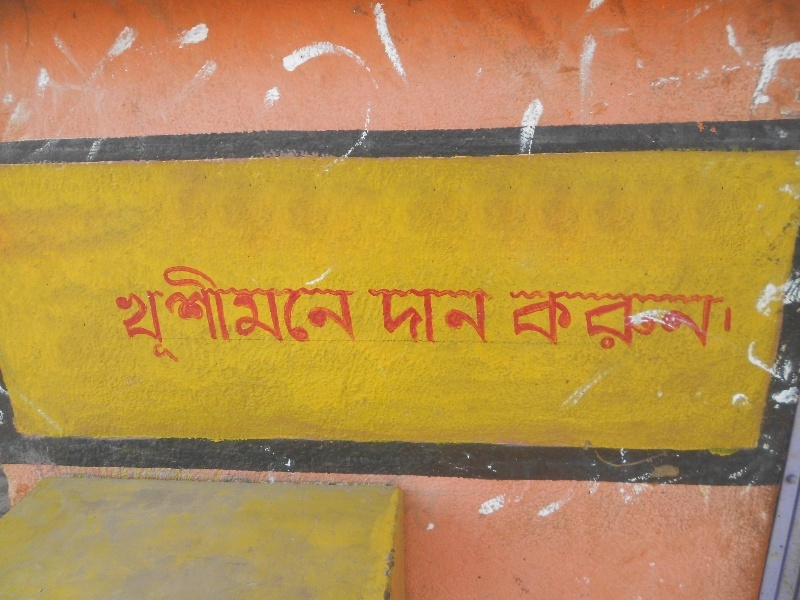text: (113, 263, 128, 365), (129, 263, 144, 365), (145, 263, 160, 365), (161, 263, 176, 365), (177, 263, 192, 365), (193, 263, 208, 365), (209, 263, 224, 365), (225, 263, 240, 365), (241, 263, 256, 365), (257, 263, 272, 365), (273, 263, 288, 365), (289, 263, 304, 365), (305, 263, 320, 365), (321, 263, 336, 365), (337, 263, 352, 365), (513, 288, 528, 351), (529, 288, 544, 351), (545, 288, 560, 351), (561, 288, 576, 351), (577, 288, 592, 351), (593, 288, 608, 351), (609, 288, 624, 351), (625, 288, 640, 351), (641, 288, 656, 351), (657, 288, 672, 351), (673, 288, 688, 351), (689, 288, 704, 351), (705, 288, 720, 351), (369, 284, 384, 345), (385, 284, 400, 345), (401, 284, 416, 345), (417, 284, 432, 345), (433, 284, 448, 345), (449, 284, 464, 345), (465, 284, 480, 345), (481, 284, 495, 345), (721, 288, 732, 351), (353, 263, 358, 365), (507, 288, 512, 351), (365, 284, 368, 345), (111, 263, 112, 365)
